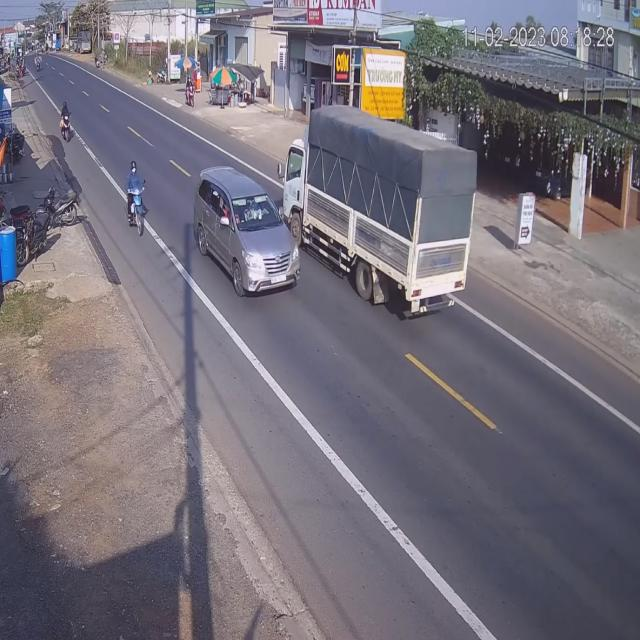car: (192, 166, 299, 298)
motorbike: (124, 161, 149, 234), (60, 102, 72, 142)
truck: (285, 98, 477, 318)
